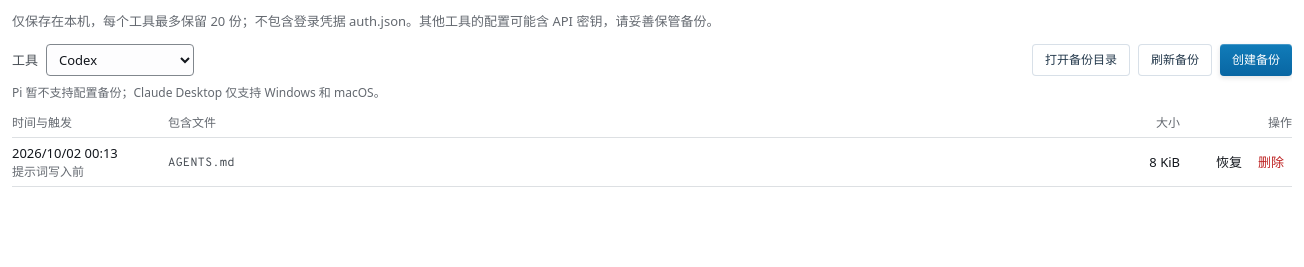
Test case: Live backup panel › clears stale lists on refresh failure and permits retry
Expected: the text "AGENTS.md" is shown, [168, 154, 234, 172]
Click the button "刷新备份": (1175, 60) [1138, 44, 1212, 76]
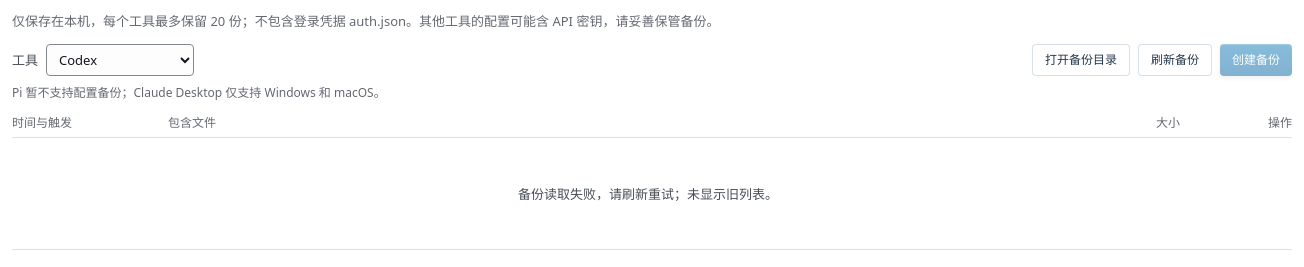
Now the message shows "读取失败", box [518, 184, 778, 202]
Now the text "AGENTS.md" is gone
Now the button "创建备份" is disabled, box [1220, 44, 1292, 76]
Click the button "刷新备份": (1175, 60) [1138, 44, 1212, 76]
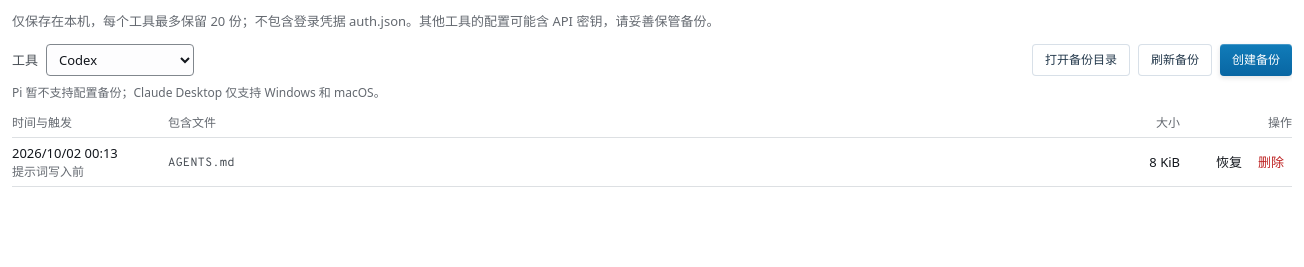
Now the text "AGENTS.md" is shown, box [168, 154, 234, 172]
